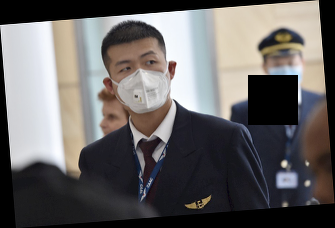with_mask: (110, 49, 171, 113), (268, 56, 305, 94)
